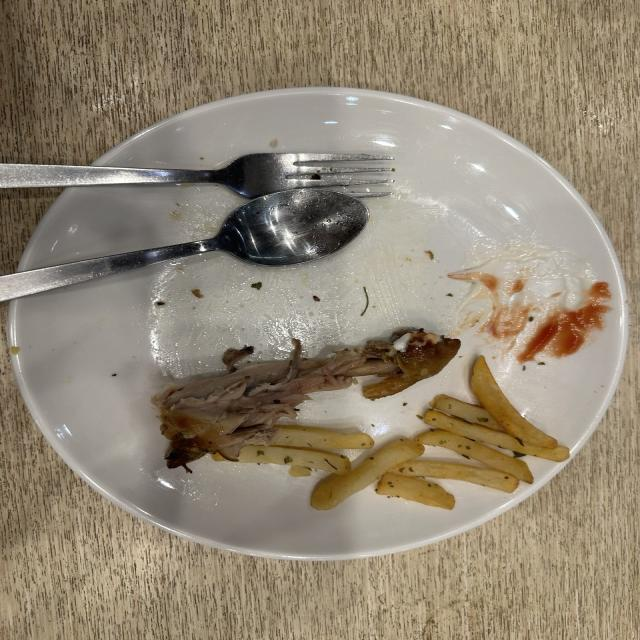Bones: (152, 328, 460, 472)
Potato: (238, 356, 569, 510)
